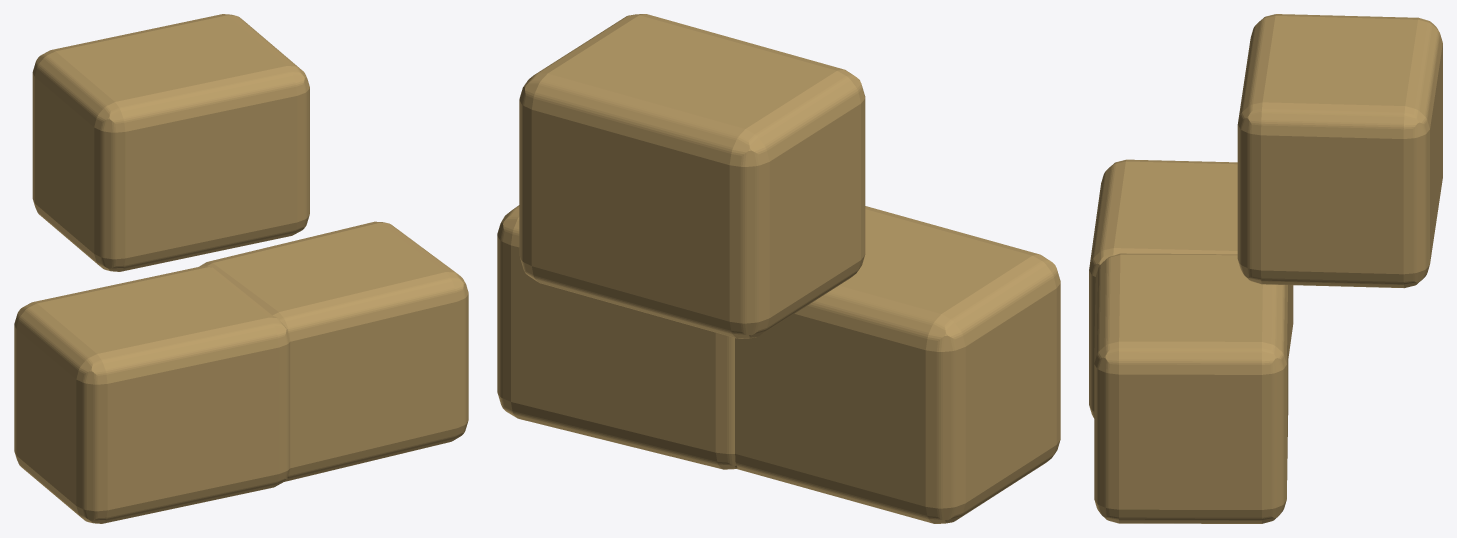
Rendered from hay-bales-v01.glb.
3 renders of one model, left to right at view 1: azimuth 30°, elevation 25°; view 2: azimuth 150°, elevation 25°; view 3: azimuth 270°, elevation 25°, orthographic. The views are drawn at different scales.
Parts seen in each view (by area): view 1: hay-bales-hex-v01; view 2: hay-bales-hex-v01; view 3: hay-bales-hex-v01.
Part boxes in pixels (x1=…): hay-bales-hex-v01: x1=14, y1=14, x2=468, y2=523; hay-bales-hex-v01: x1=497, y1=14, x2=1060, y2=523; hay-bales-hex-v01: x1=1089, y1=14, x2=1442, y2=523.
Bounding box in the file's own units: 1.53 × 1.32 × 1.14.
